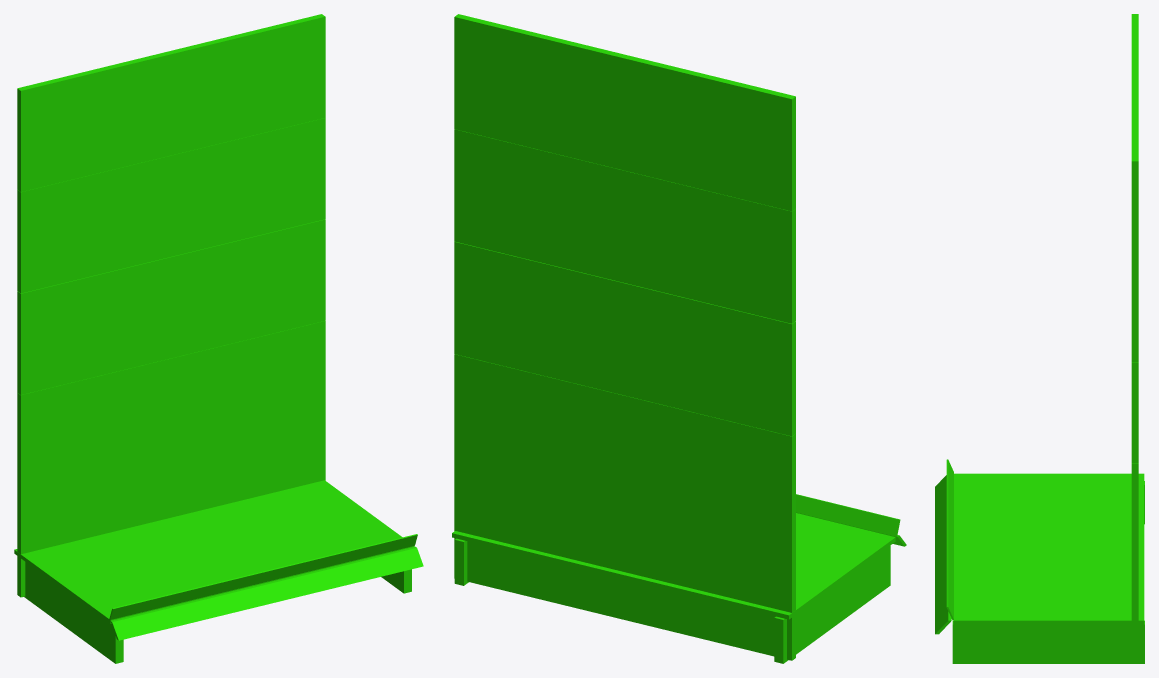
File: Shop_Shelf_A_06_Lod0.fbx
The picture shows the model from 3 angles, left to right: view 1: azimuth 30°, elevation 25°; view 2: azimuth 150°, elevation 25°; view 3: azimuth 270°, elevation 25°; orthographic projection. The views are drawn at different scales.
Visible parts, largest first — view 1: Shop_Shelf_A_06_Lod0; view 2: Shop_Shelf_A_06_Lod0; view 3: Shop_Shelf_A_06_Lod0.
Boxes of the visible parts, bbox=[...] form: Shop_Shelf_A_06_Lod0: bbox=[14, 14, 423, 663]; Shop_Shelf_A_06_Lod0: bbox=[452, 14, 906, 663]; Shop_Shelf_A_06_Lod0: bbox=[935, 14, 1144, 663].
Size of the model in its own units: 135 by 214 by 80.68.
